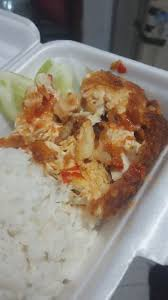ayam_geprek: (33, 68, 154, 218)
